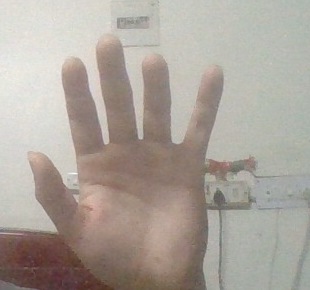move: (23, 34, 218, 284)
